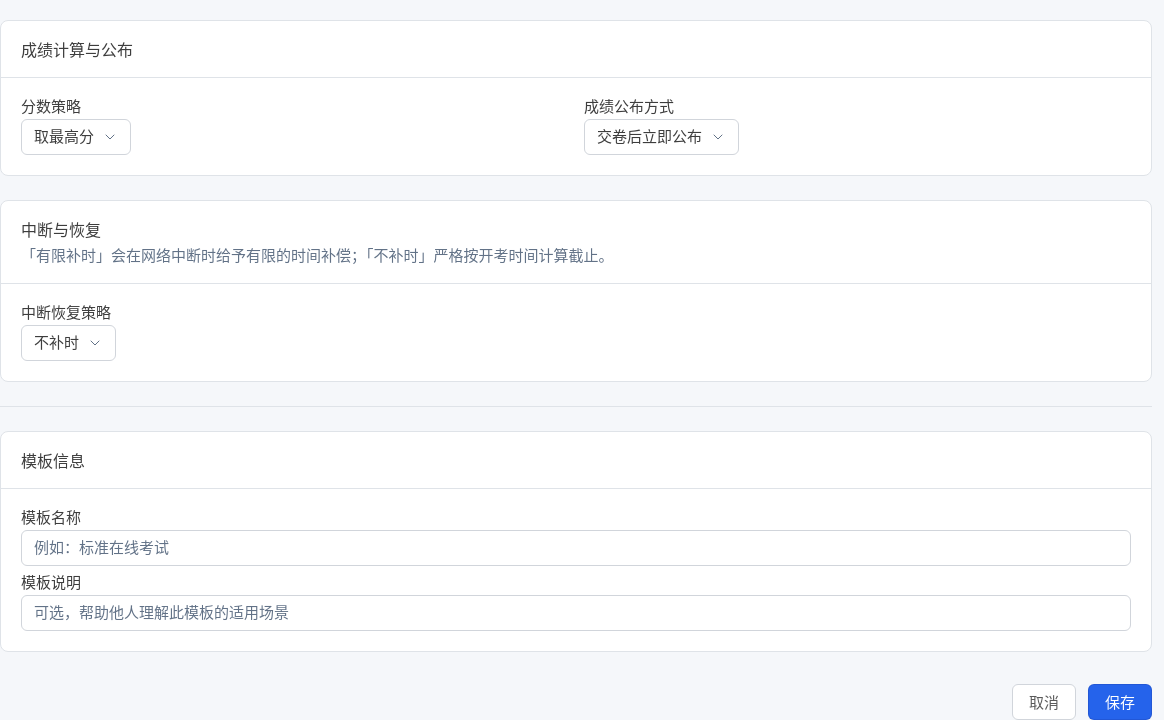
ExamProfileEditPage — create path › maps a 409 duplicate-name server error to a friendly message
(page scrolled)
Type "dup" into the field labelled "模板名称" at [576, 548], box [21,530,1131,566]
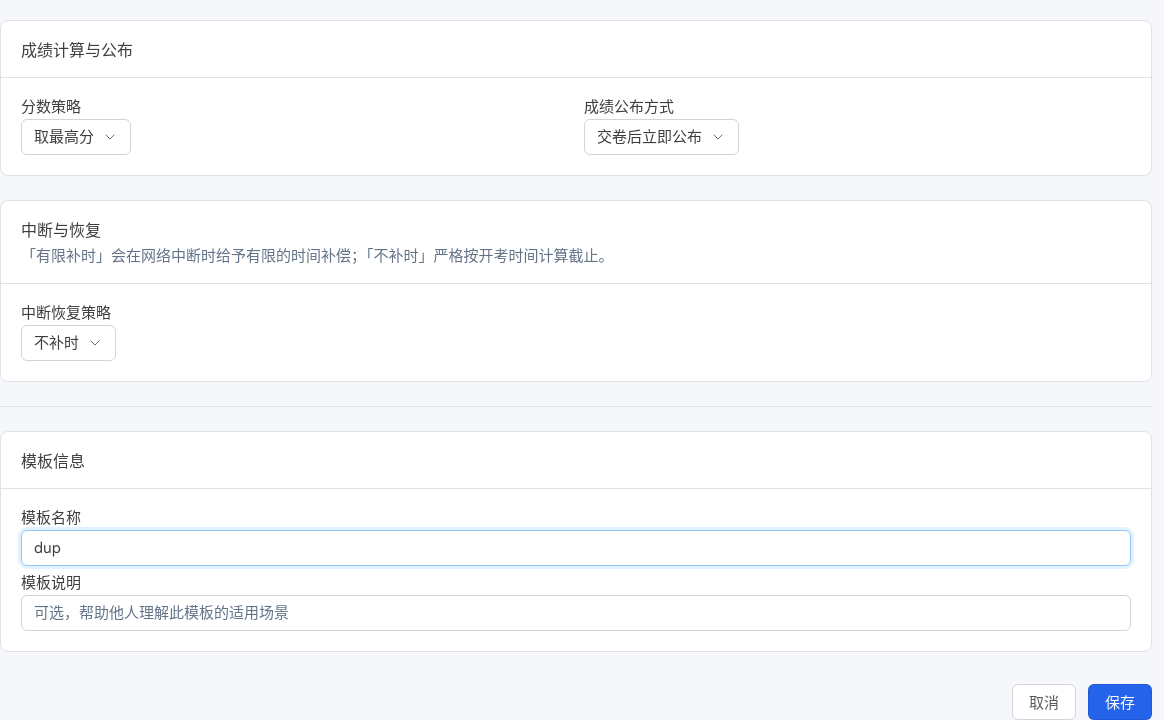
Click the button "保存" at [1120, 702], box [1088,684,1152,719]
(page scrolled)
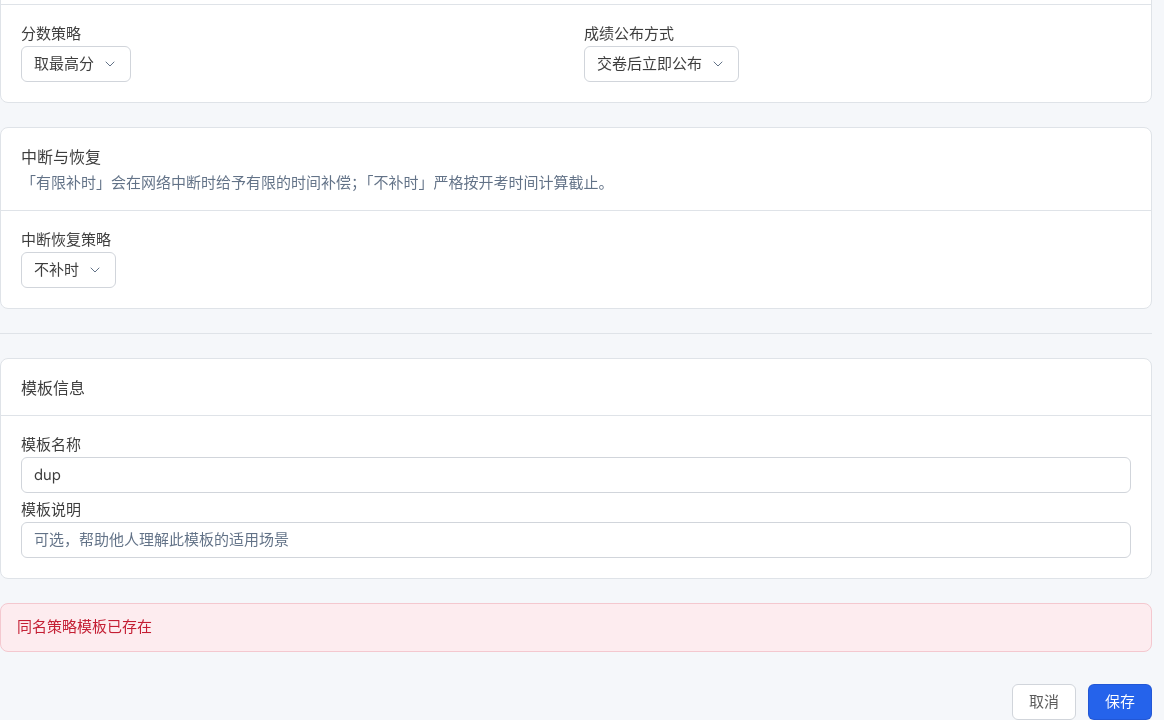
Expected: the text "同名策略模板已存在" is shown, [0,603,1152,652]
